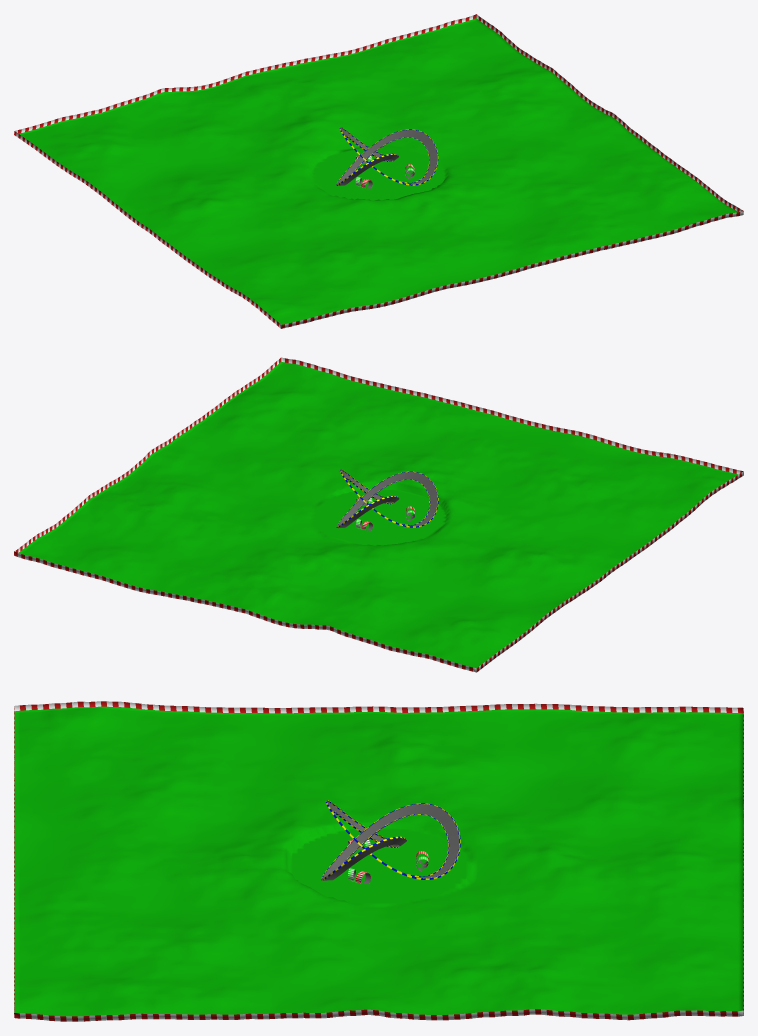
The model's file is Cenario Normals.glb.
The picture shows the model from 3 angles, top to bottom: view 1: azimuth 30°, elevation 25°; view 2: azimuth 150°, elevation 25°; view 3: azimuth 270°, elevation 25°; orthographic projection. The views are drawn at different scales.
Parts seen in each view (by area): view 1: Landscape.001, Pista; view 2: Landscape.001, Pista; view 3: Landscape.001, Pista.
Boxes of the visible parts, x1,y1,x2,y2 form: Landscape.001: [14, 14, 743, 328]; Pista: [336, 127, 438, 185]; Landscape.001: [14, 357, 743, 672]; Pista: [336, 469, 438, 528]; Landscape.001: [14, 701, 743, 1021]; Pista: [321, 800, 460, 880].
Bounding box in the file's own units: 5933 × 490 × 5934.
